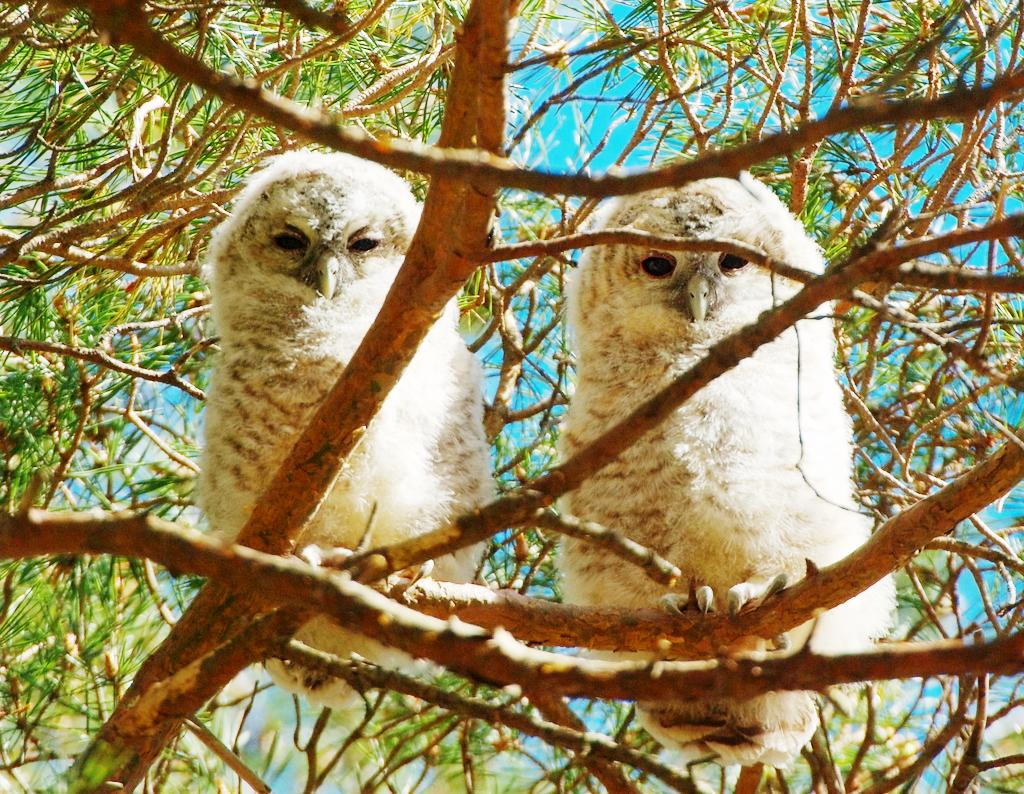Owl: (550, 176, 903, 771), (186, 146, 512, 710)
